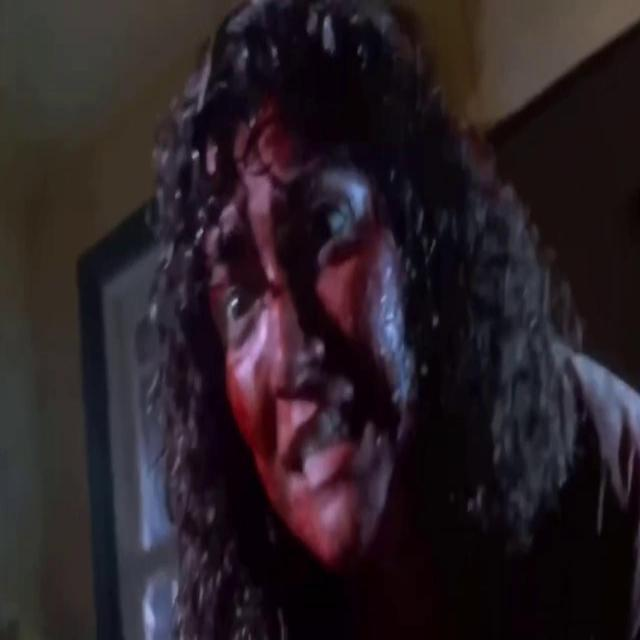flood: (170, 67, 442, 588)
